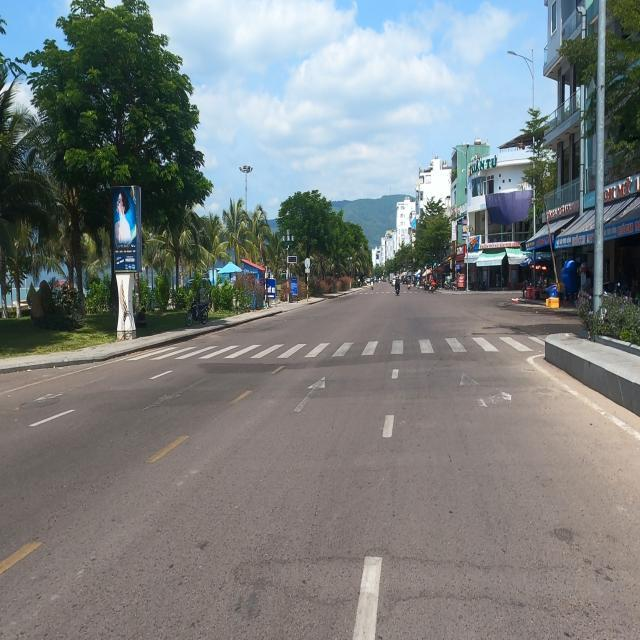walk-crossing: (122, 332, 550, 364)
